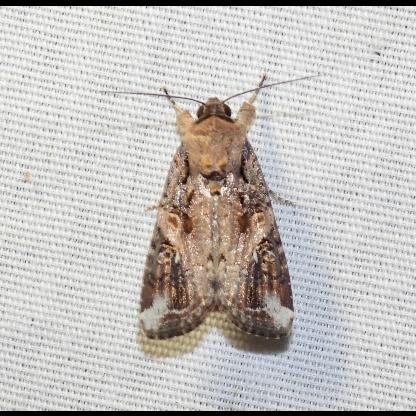Fall Armyworm Moth: (96, 70, 326, 344)
